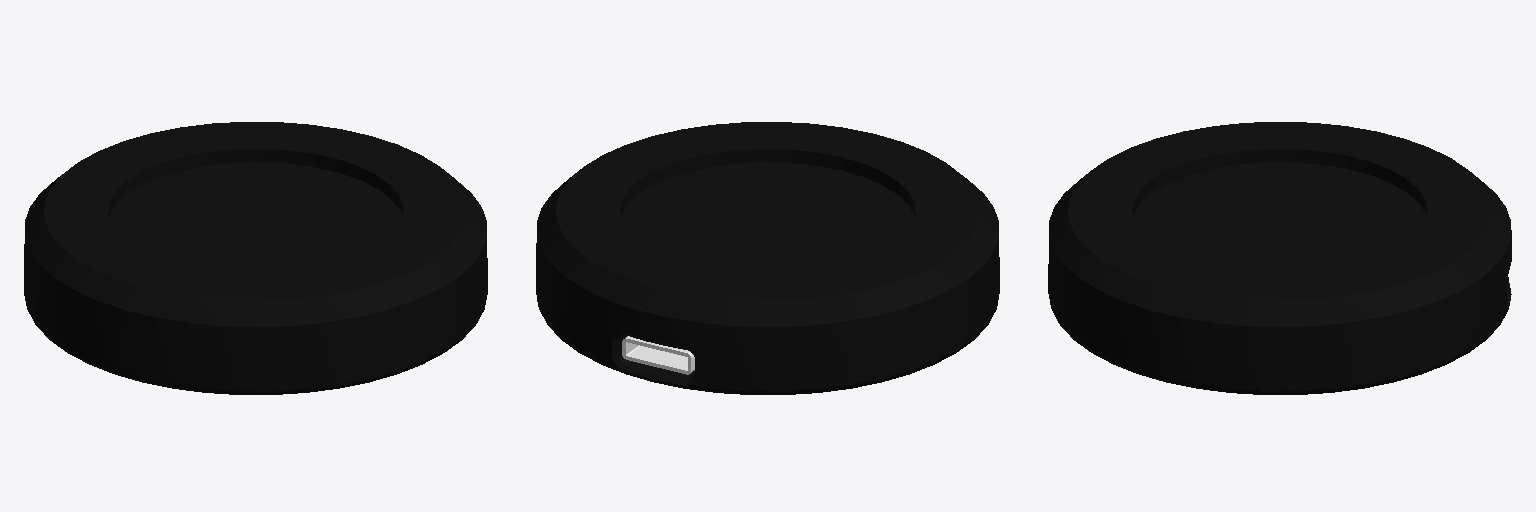
Rendered from centeredPin.obj.
The picture shows the model from 3 angles: view 1: azimuth 30°, elevation 25°; view 2: azimuth 150°, elevation 25°; view 3: azimuth 270°, elevation 25°; orthographic projection.
Parts seen in each view (by area): view 1: New Design; view 2: New Design, Mock Charging Port; view 3: New Design.
Part boxes in pixels (x1,y1,x2,y2): New Design: (24,122,487,394); New Design: (536,122,999,394); Mock Charging Port: (622,336,694,374); New Design: (1048,122,1511,394).
Size of the model in its own units: 4.7 by 1 by 4.7.